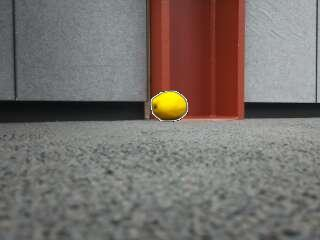lemon: (152, 92, 186, 120)
